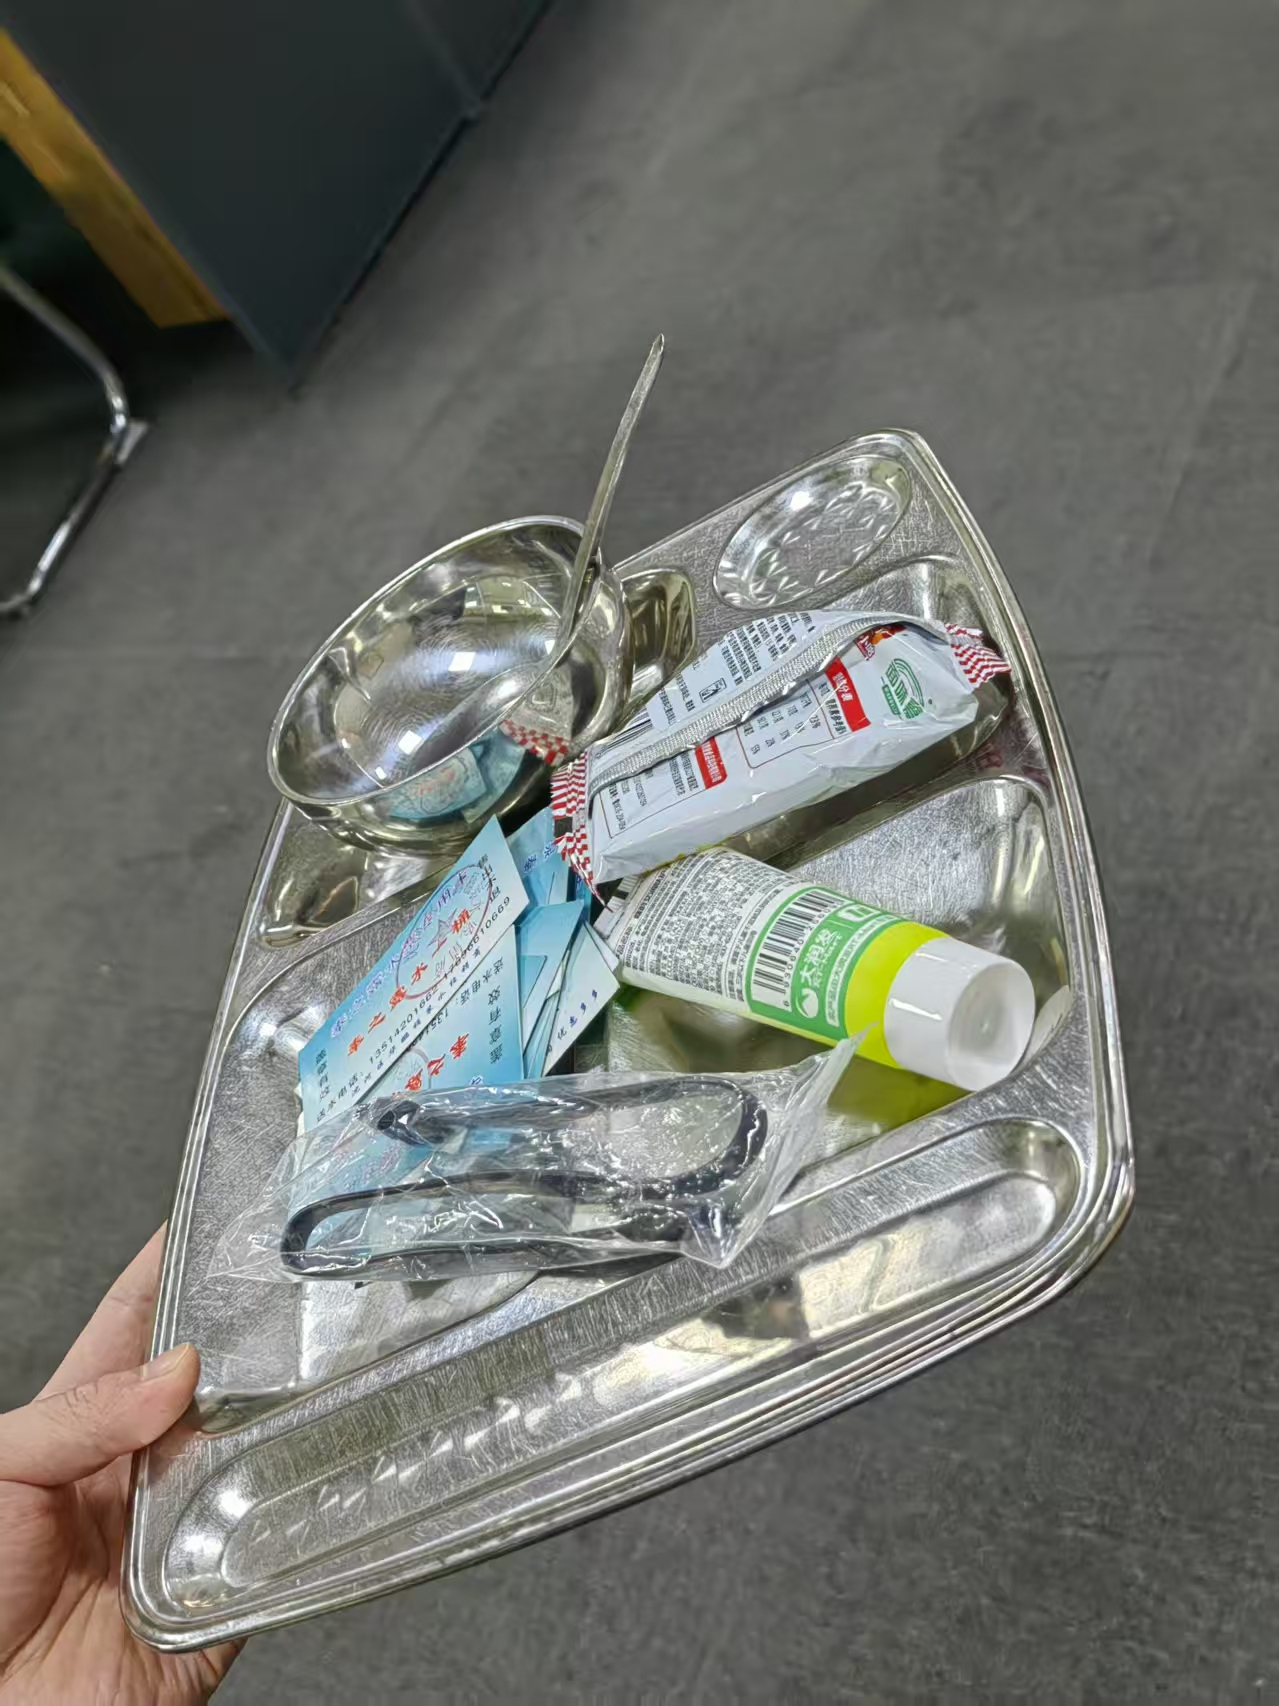moderate: (213, 606, 1026, 1280)
plate: (116, 423, 1141, 1654)
